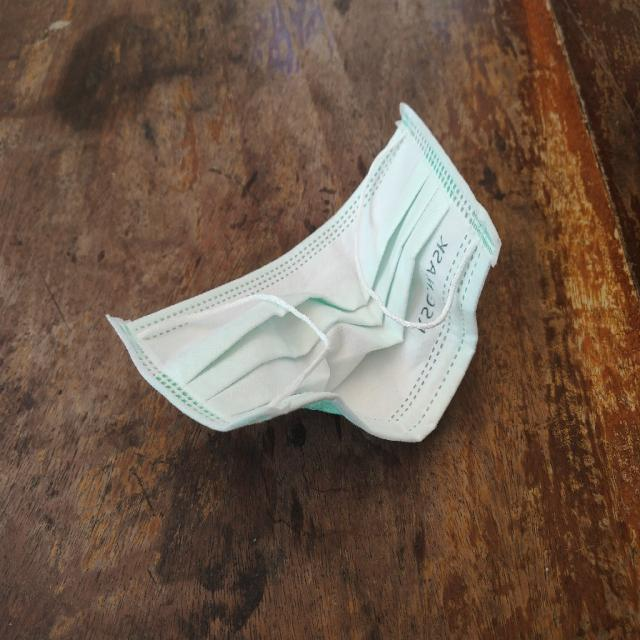non-organic waste: (105, 98, 502, 445)
